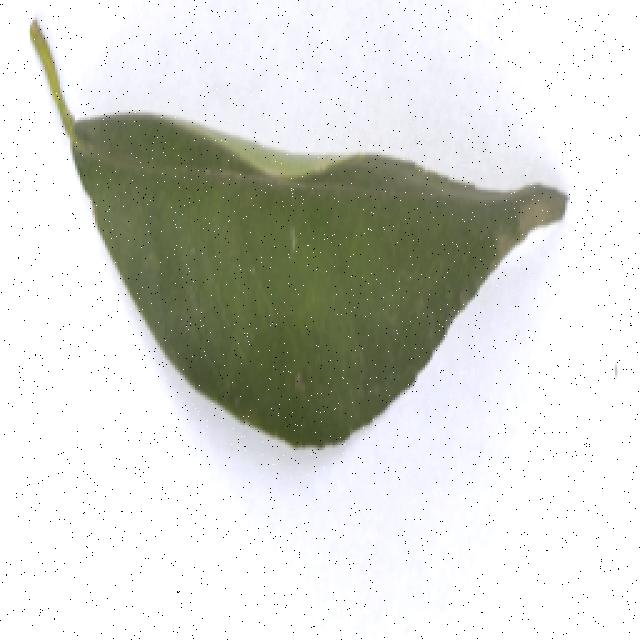healthy: (19, 20, 578, 456)
